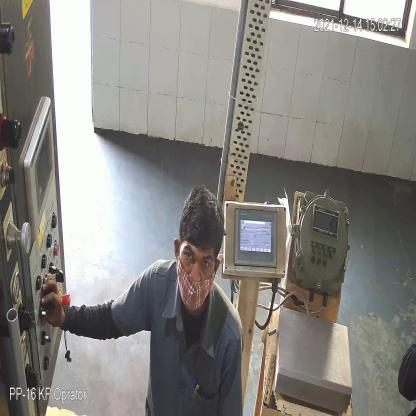no_goggles: (180, 247, 216, 273)
